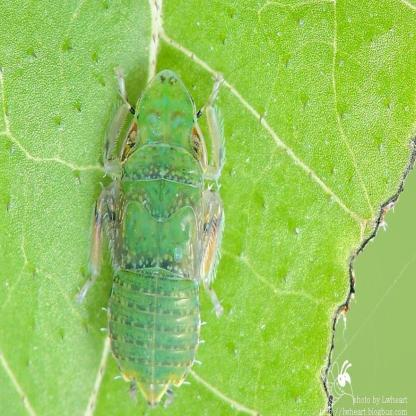green-leafhopper: (92, 71, 222, 400)
